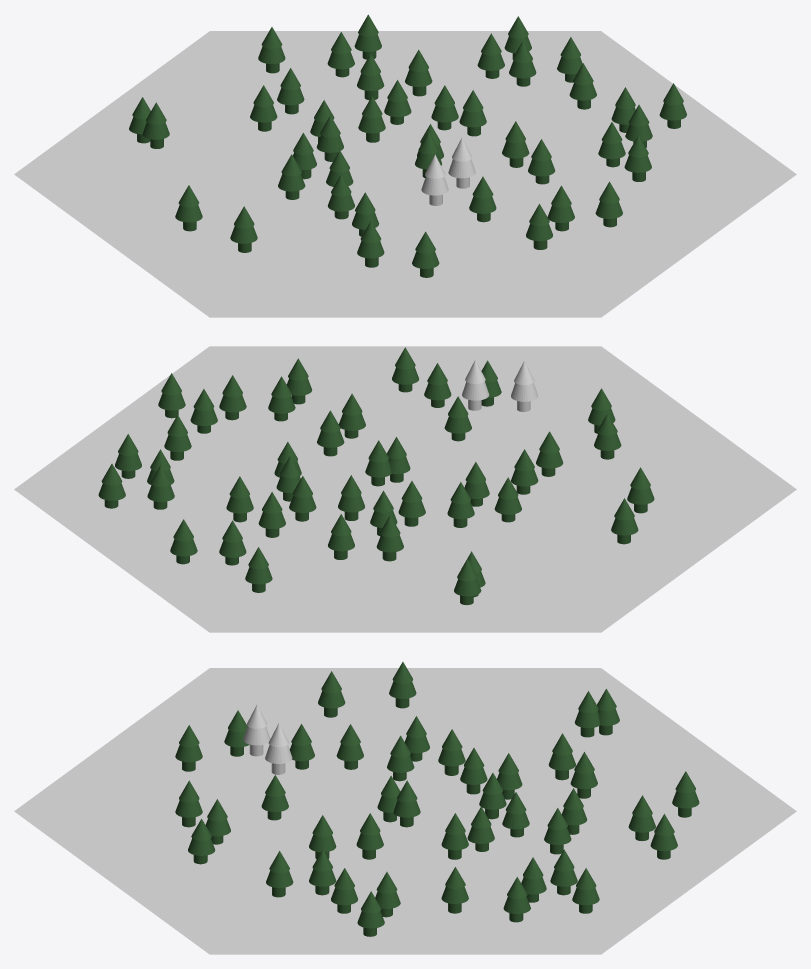
The model's file is newforest.fbx.
The picture shows the model from 3 angles, top to bottom: view 1: azimuth 30°, elevation 25°; view 2: azimuth 150°, elevation 25°; view 3: azimuth 270°, elevation 25°; orthographic projection.
Parts seen in each view (by area): view 1: Circle, Cylinder.003, Cylinder.030, Cylinder.007, Cylinder.029, Cylinder.011, Cylinder.010, Cylinder.027, Cylinder.004, Cylinder.008, Cylinder.028, Cylinder.026 (+18 smaller); view 2: Circle, Cylinder.003, Cylinder.004, Cylinder.007, Cylinder.030, Cylinder.026, Cylinder.009, Cylinder.008, Cylinder.010, Cylinder.029, Cylinder.028, Cylinder.035 (+17 smaller); view 3: Circle, Cylinder.003, Cylinder.004, Cylinder.007, Cylinder.008, Cylinder.009, Cylinder.010, Cylinder.011, Cylinder.026, Cylinder.030, Cylinder.033, Cylinder.029 (+19 smaller).
Part boxes in pixels (box(x1,y1,x2,y2)): Circle: box(14, 31, 796, 317); Cylinder.003: box(421, 137, 475, 205); Cylinder.030: box(357, 49, 432, 100); Cylinder.007: box(250, 68, 304, 131); Cylinder.029: box(547, 181, 622, 231); Cylinder.011: box(384, 80, 458, 130); Cylinder.010: box(327, 14, 381, 77); Cylinder.027: box(509, 37, 582, 86); Cylinder.004: box(293, 115, 343, 179); Cylinder.008: box(598, 104, 652, 167); Cylinder.028: box(611, 83, 686, 132); Cylinder.026: box(328, 174, 378, 236); Circle: box(14, 346, 796, 632); Cylinder.003: box(462, 360, 537, 411); Cylinder.004: box(398, 481, 474, 527); Cylinder.007: box(328, 514, 403, 561); Cylinder.030: box(226, 476, 285, 537); Cylinder.026: box(511, 431, 563, 494); Cylinder.009: box(98, 463, 174, 509); Cylinder.008: box(219, 375, 295, 421); Cylinder.010: box(170, 519, 246, 565); Cylinder.029: box(392, 347, 451, 407); Cylinder.028: box(158, 373, 217, 433); Cylinder.035: box(464, 462, 521, 522); Circle: box(14, 668, 796, 954); Cylinder.003: box(243, 705, 292, 774); Cylinder.004: box(438, 729, 487, 794); Cylinder.007: box(548, 733, 597, 798); Cylinder.008: box(309, 849, 357, 913); Cylinder.009: box(550, 849, 599, 913); Cylinder.010: box(628, 795, 677, 859); Cylinder.011: box(467, 792, 529, 851); Cylinder.026: box(289, 724, 363, 769); Cylinder.030: box(544, 788, 587, 854); Cylinder.033: box(479, 753, 522, 819); Cylinder.029: box(188, 799, 230, 864).
Size of the model in its own units: 173 by 24.33 by 200.
